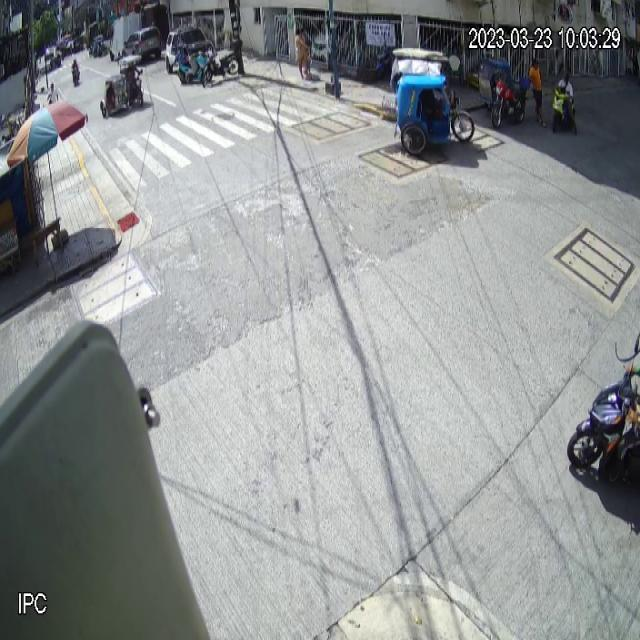Tricycle: (390, 44, 476, 158)
